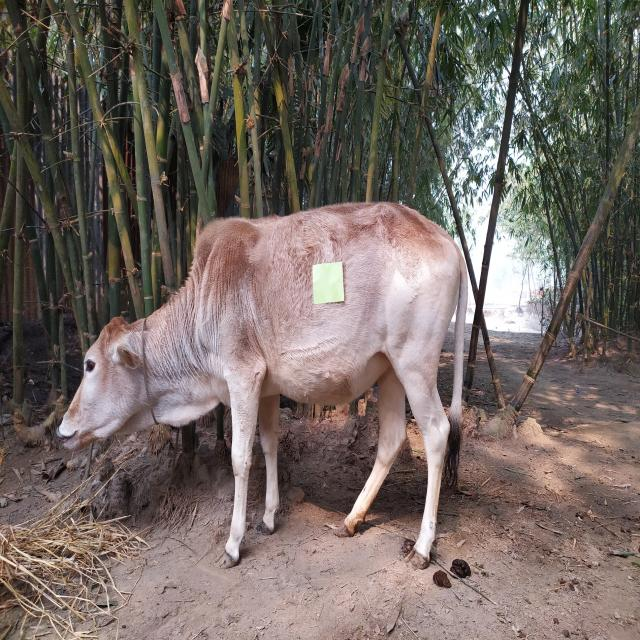badan_sapi: (202, 209, 462, 414)
sapi: (51, 189, 474, 570)
